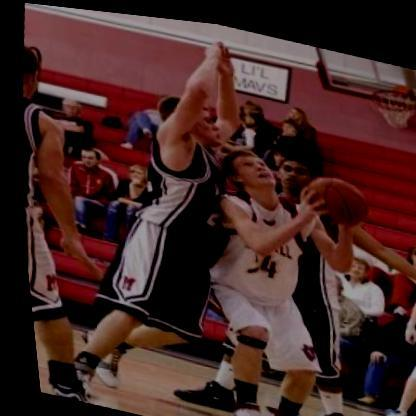basketball: (291, 156, 377, 231)
